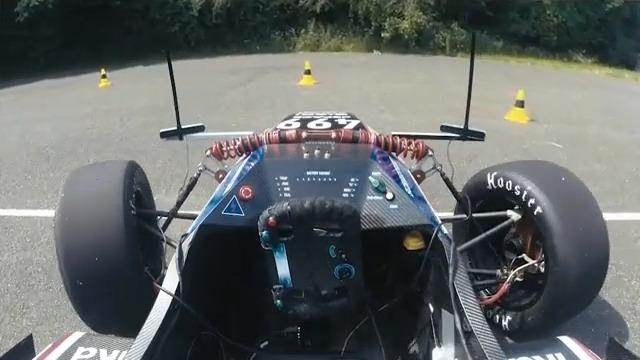yellow_cone: (504, 89, 531, 124), (297, 61, 317, 85), (98, 68, 112, 88)
